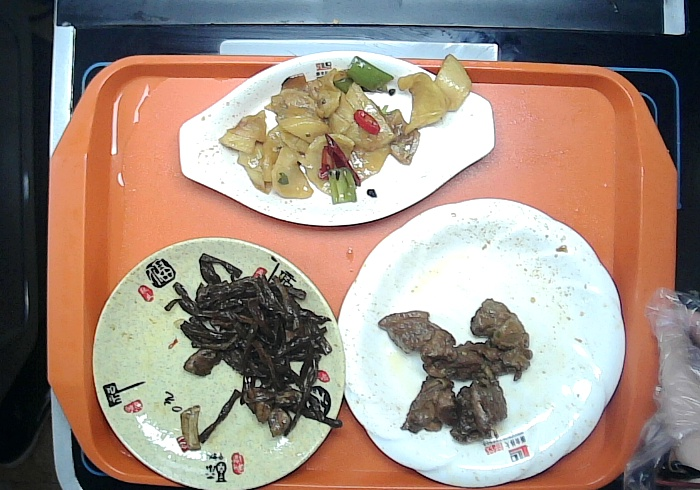NLDX-Bai_Zhe_Yuan_Pan: (328, 192, 632, 490)
NLDX-Fu_Zi_Yuan_Pan: (77, 215, 348, 490)
NLDX-Yu_Pan: (171, 45, 501, 235)
